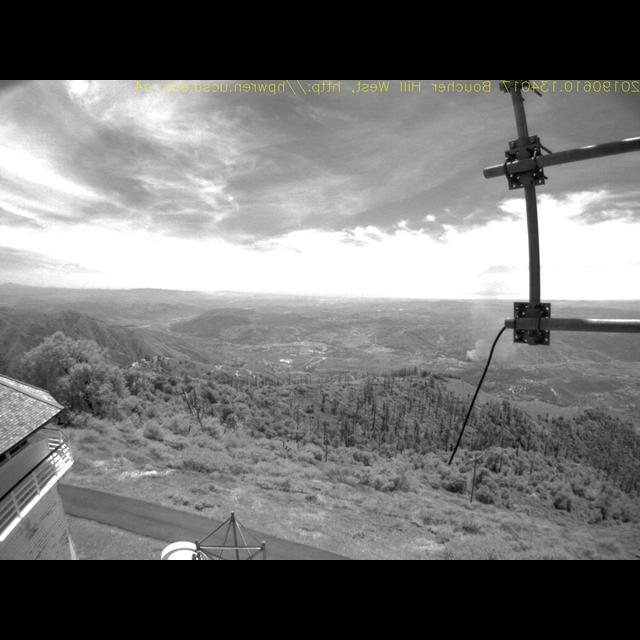Smoke: (463, 271, 521, 365)
